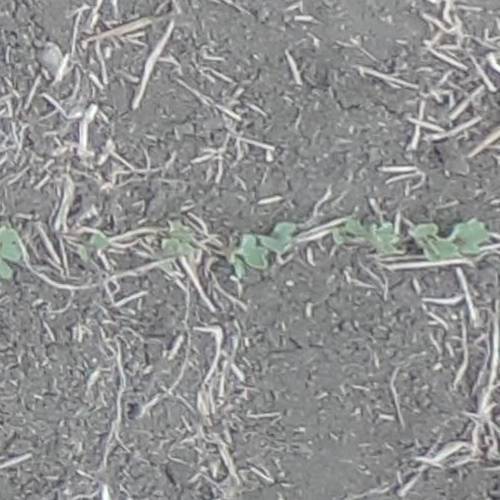clumped: (227, 222, 300, 270), (412, 218, 487, 261), (0, 220, 20, 278)
isolated: (334, 217, 400, 251), (163, 226, 190, 276), (86, 231, 109, 253)
